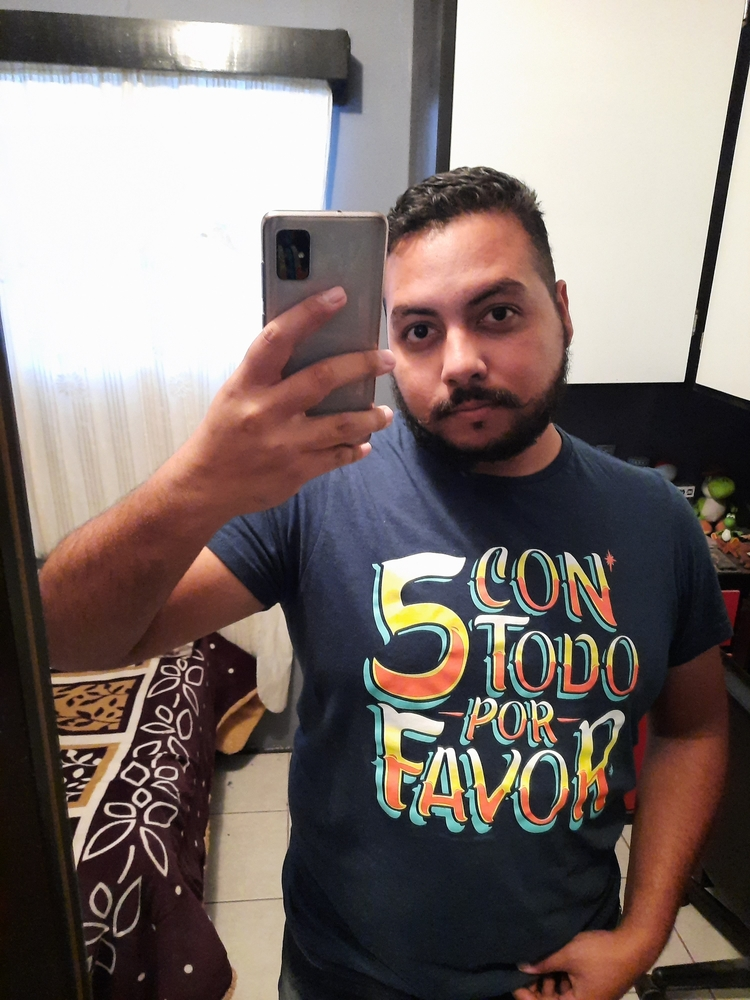Yoshi: (332, 126, 606, 496)
